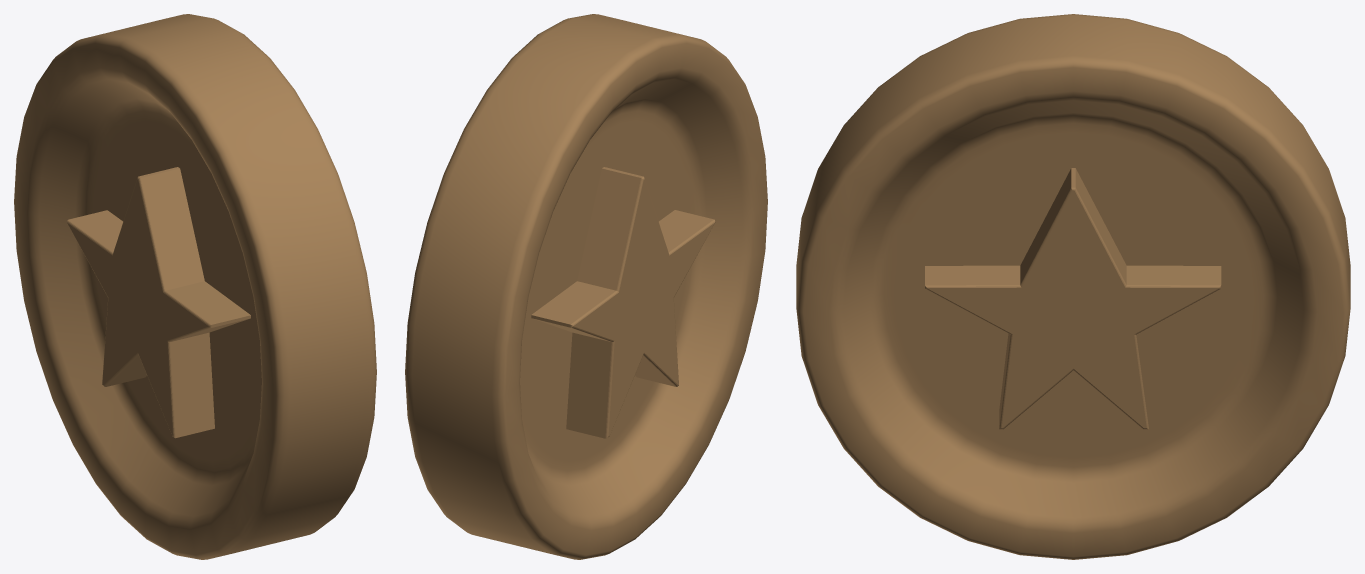
Rendered from Coin.fbx.
The picture shows the model from 3 angles, left to right: view 1: azimuth 30°, elevation 25°; view 2: azimuth 150°, elevation 25°; view 3: azimuth 270°, elevation 25°; orthographic projection. The views are drawn at different scales.
Parts seen in each view (by area): view 1: Cylinder; view 2: Cylinder; view 3: Cylinder.
Part boxes in pixels (x1,y1,x2,y2): Cylinder: [14, 14, 376, 559]; Cylinder: [405, 14, 767, 559]; Cylinder: [796, 14, 1350, 559].
Size of the model in its own units: 49.1 by 200 by 200.
